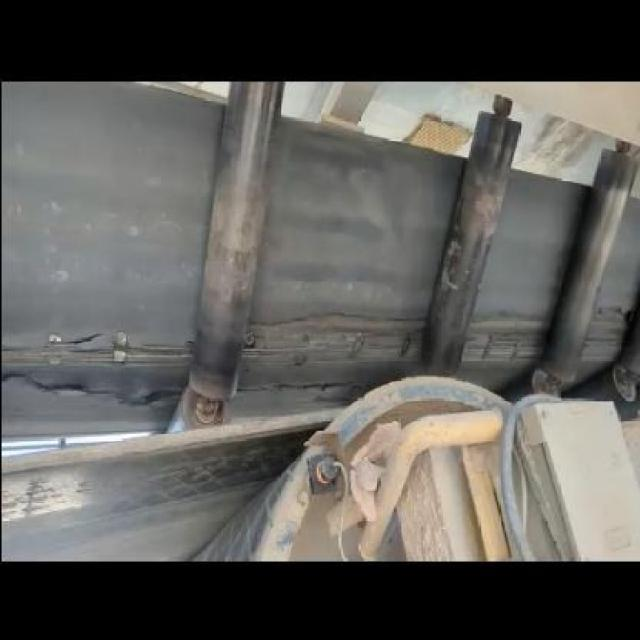Tear: (238, 307, 428, 367), (0, 370, 188, 415), (0, 328, 203, 369), (455, 308, 547, 366)
